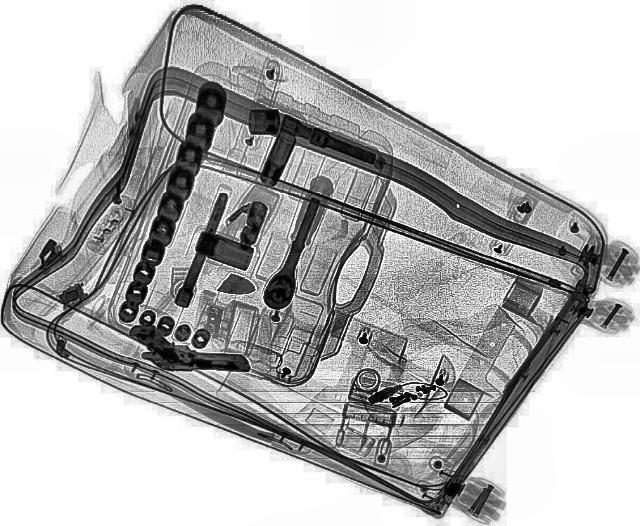Gun: (129, 322, 251, 374)
